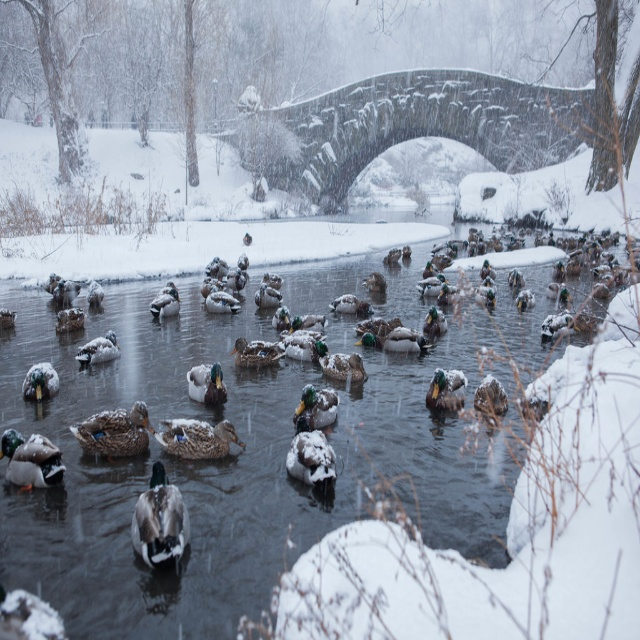Duck: (130, 469, 187, 600), (64, 396, 160, 457), (154, 414, 244, 472), (0, 429, 69, 487), (285, 430, 335, 497), (293, 384, 342, 438), (73, 331, 124, 379), (185, 359, 234, 408), (357, 322, 434, 351), (314, 345, 367, 386), (230, 334, 289, 369), (425, 369, 468, 415), (22, 360, 60, 402), (472, 372, 508, 414), (151, 282, 184, 323), (543, 310, 576, 346), (199, 283, 241, 311), (329, 292, 374, 315), (58, 309, 86, 339), (252, 283, 284, 309), (361, 271, 388, 300), (422, 306, 446, 331), (416, 275, 445, 295), (206, 256, 229, 276), (274, 309, 290, 333), (515, 290, 534, 309), (480, 261, 498, 280), (475, 286, 494, 301), (236, 256, 249, 270)
